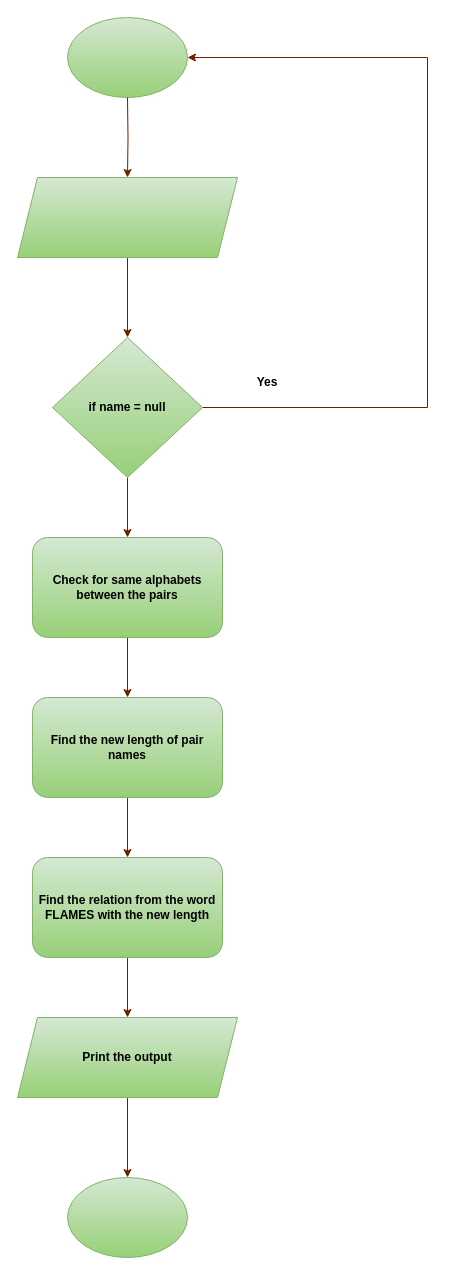
This 453x1275 diagram has some shape labels left out. The shapes that lost their labels are listed below. From the top down, each one's centre as x and y in pixels, then its label:
the point at 127,57: Start
the point at 127,217: Enter the names of that pairs
the point at 127,1217: Stop
